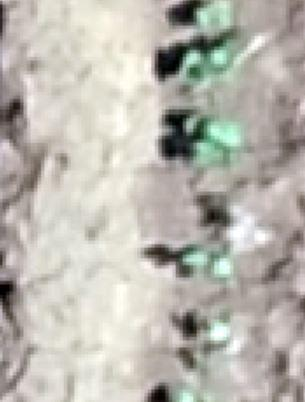cotton: (207, 120, 240, 147), (185, 119, 216, 143), (182, 52, 207, 81), (199, 3, 231, 25), (193, 140, 221, 161), (210, 48, 234, 67), (208, 319, 227, 342), (212, 260, 234, 279), (184, 253, 208, 265), (175, 387, 191, 402)
